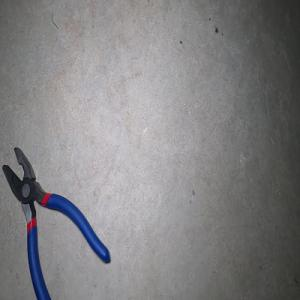Pliers: (1, 146, 110, 300)
